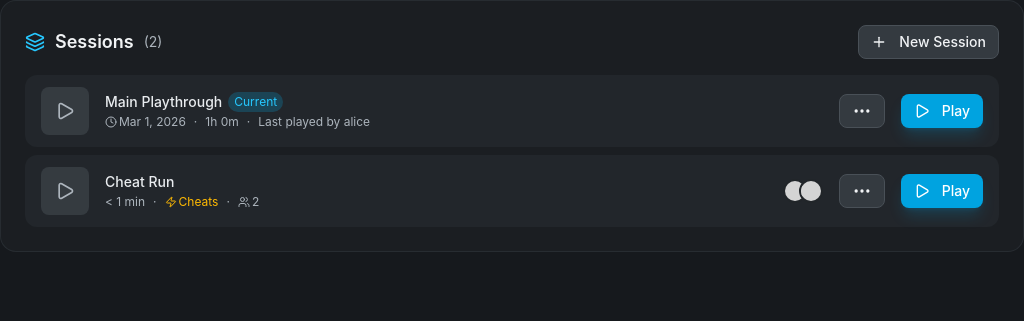
Test: GameSessions › shows new session form when button clicked
Click the button "New Session": (929, 42) [858,25,999,59]
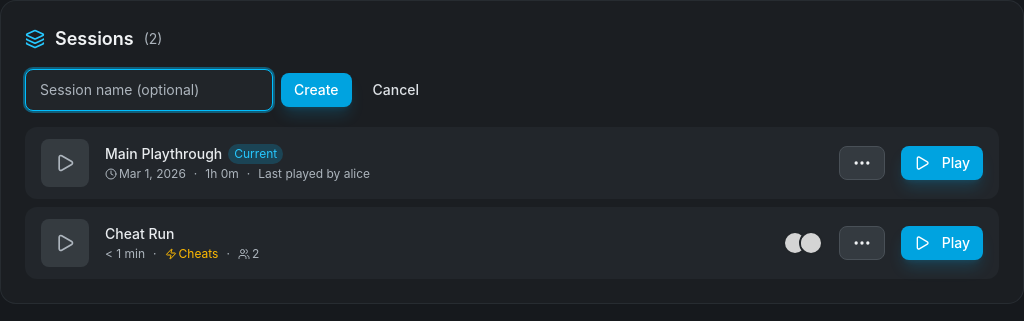
Expected: the element with test id "new-session-form" is shown, [25,69,432,111]
Expected: the field with placeholder "Session name (optional)" is shown, [25,69,273,111]
